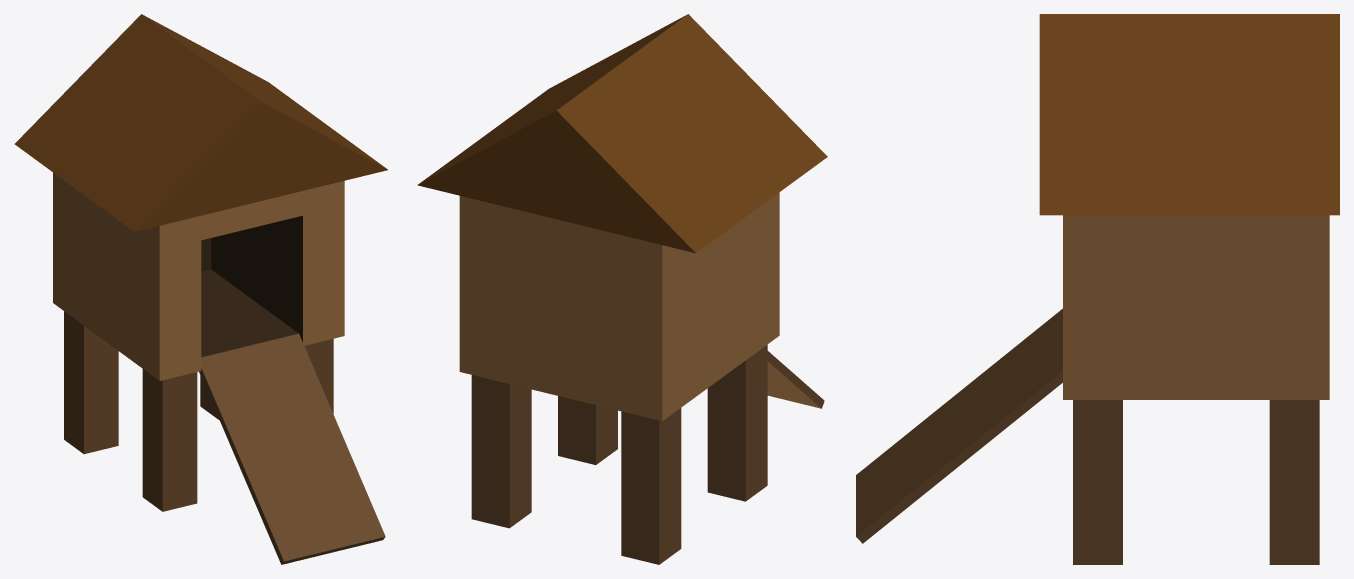
File: Farm_Hutch_Timber_01.fbx
The picture shows the model from 3 angles, left to right: view 1: azimuth 30°, elevation 25°; view 2: azimuth 150°, elevation 25°; view 3: azimuth 270°, elevation 25°; orthographic projection. The views are drawn at different scales.
Parts seen in each view (by area): view 1: Model; view 2: Model; view 3: Model.
Part boxes in pixels (x1,y1,x2,y2): Model: [14, 14, 387, 564]; Model: [417, 14, 827, 564]; Model: [856, 14, 1339, 564].
Bounding box in the file's own units: 295 × 443 × 389.
